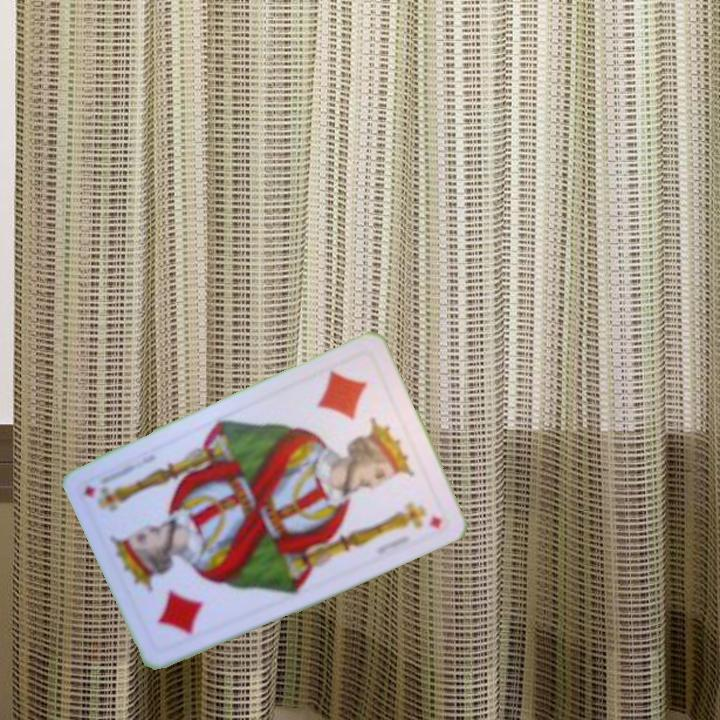d_k.png: (118, 532, 236, 657), (294, 349, 411, 473)
